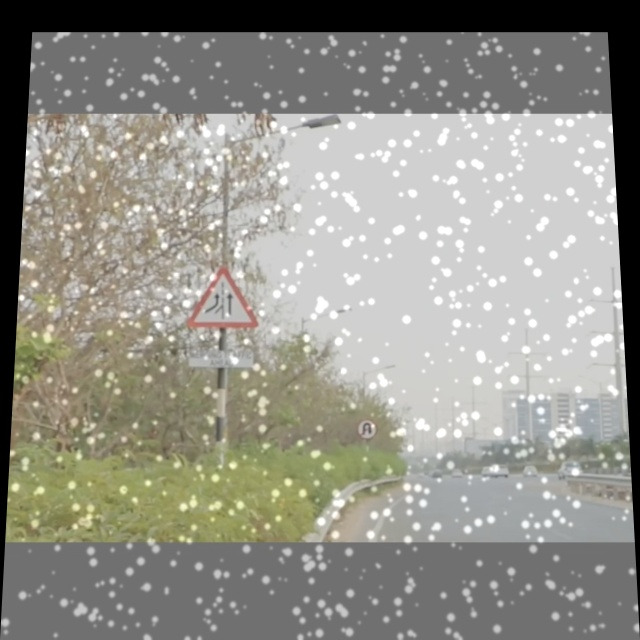Merge_Traffic_Ahead: (181, 256, 262, 332)
